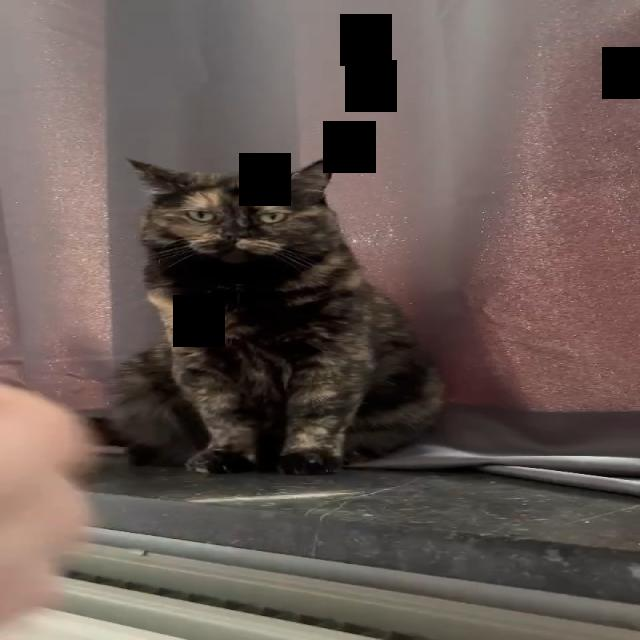authorized: (101, 154, 447, 475)
